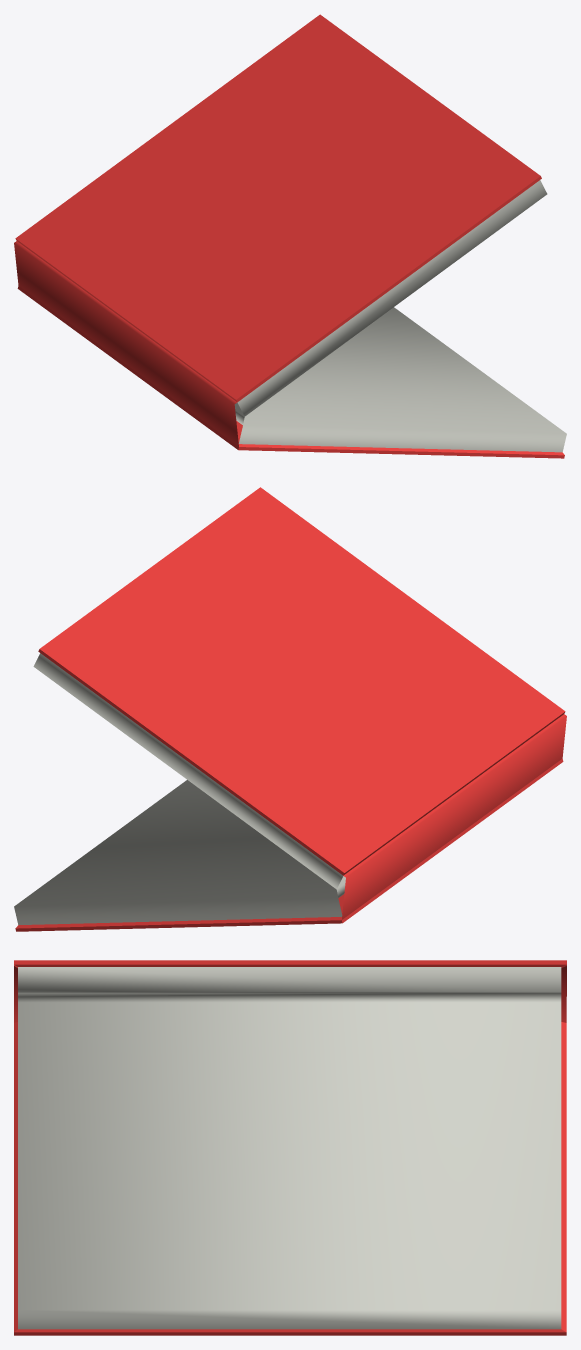
Rendered from book tent.fbx.
The picture shows the model from 3 angles, top to bottom: view 1: azimuth 30°, elevation 25°; view 2: azimuth 150°, elevation 25°; view 3: azimuth 270°, elevation 25°; orthographic projection. The views are drawn at different scales.
Parts seen in each view (by area): view 1: book; view 2: book; view 3: book.
Part boxes in pixels (left/top/right/bottom): book: left=14, top=14, right=566, bottom=458; book: left=14, top=487, right=566, bottom=931; book: left=14, top=960, right=566, bottom=1335.
Bounding box in the file's own units: 178 × 147 × 203.
